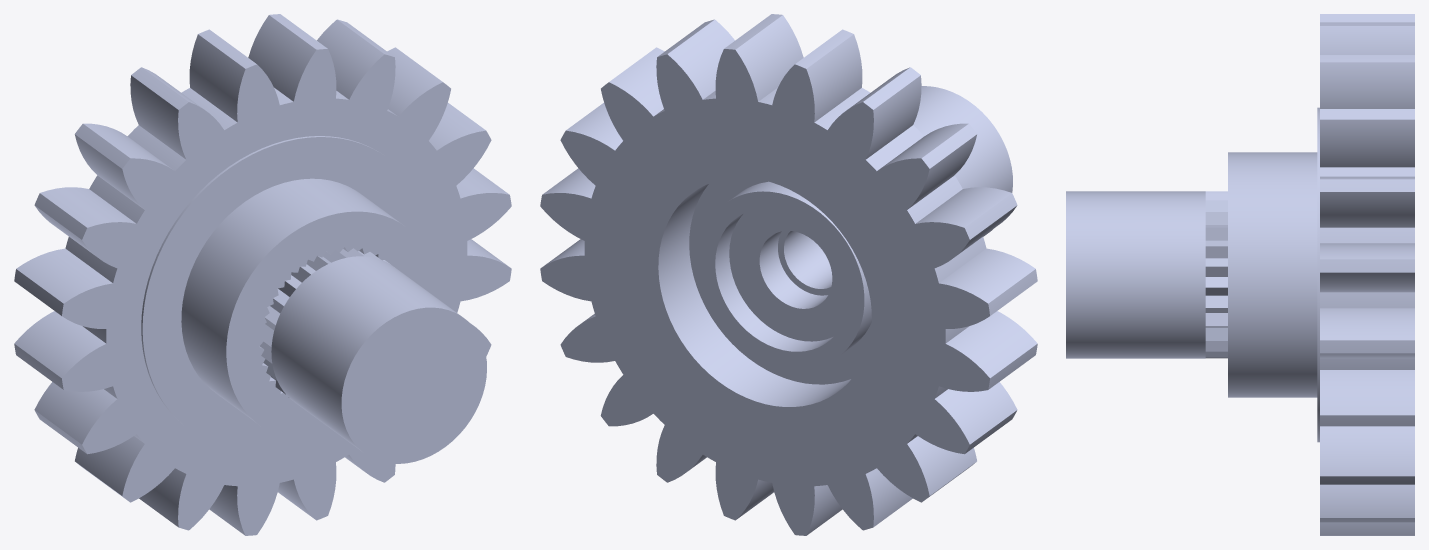
The model's file is servo_left_gear.dae.
3 renders of one model, left to right at view 1: azimuth 30°, elevation 25°; view 2: azimuth 150°, elevation 25°; view 3: azimuth 270°, elevation 25°, orthographic.
Parts seen in each view (by area): view 1: servo_left_gear; view 2: servo_left_gear; view 3: servo_left_gear.
Part boxes in pixels (x1,y1,x2,y2): servo_left_gear: (14, 14, 511, 535); servo_left_gear: (540, 14, 1037, 535); servo_left_gear: (1066, 14, 1414, 535).
Size of the model in its own units: 0.0185 by 0.0125 by 0.0185.
